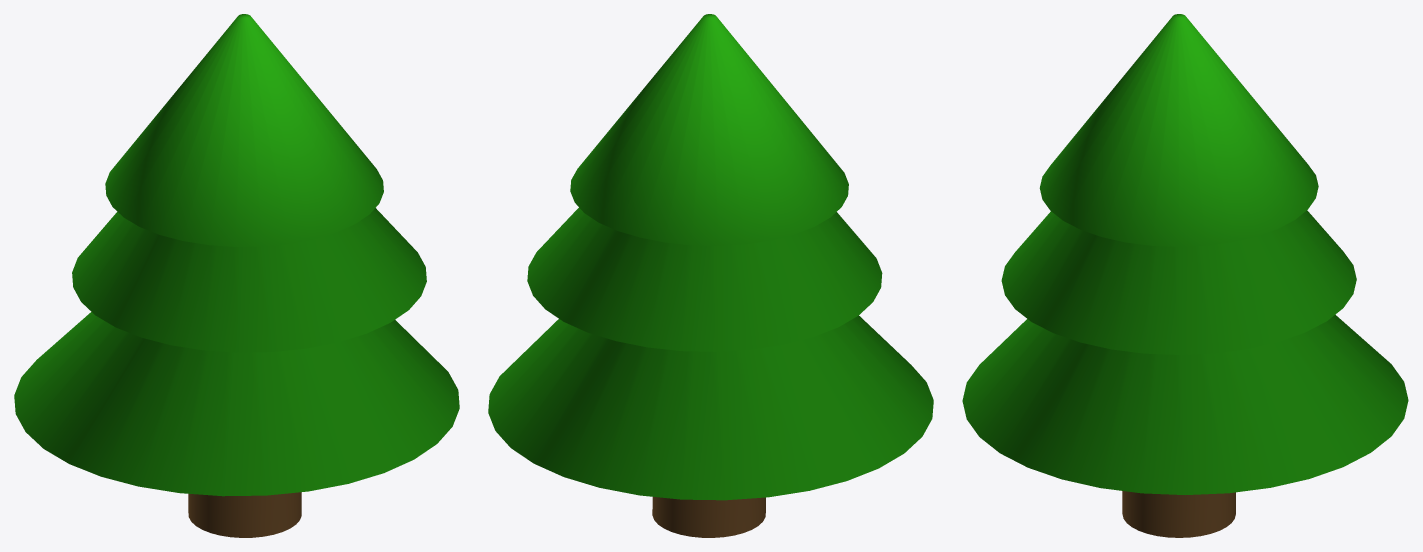
The model's file is Arbol_vivo4.fbx.
3 renders of one model, left to right at view 1: azimuth 30°, elevation 25°; view 2: azimuth 150°, elevation 25°; view 3: azimuth 270°, elevation 25°, orthographic.
Parts seen in each view (by area): view 1: Pino.001; view 2: Pino.001; view 3: Pino.001.
Part boxes in pixels (x1,y1,x2,y2): Pino.001: (14, 14, 459, 537); Pino.001: (488, 14, 933, 537); Pino.001: (962, 14, 1408, 537).
Bounding box in the file's own units: 175 × 215 × 175.
